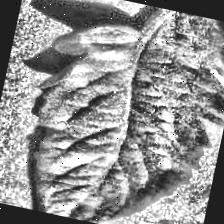leaf mold: (19, 0, 224, 224)
